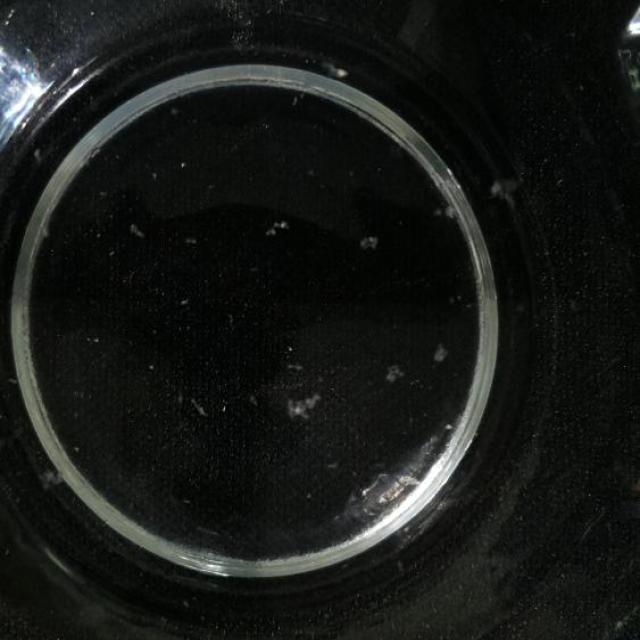fiber: (283, 386, 321, 426), (485, 172, 523, 205), (262, 217, 292, 247), (321, 56, 351, 85), (358, 225, 385, 255), (34, 461, 61, 491), (383, 362, 410, 390), (428, 199, 452, 221), (434, 342, 452, 358)
